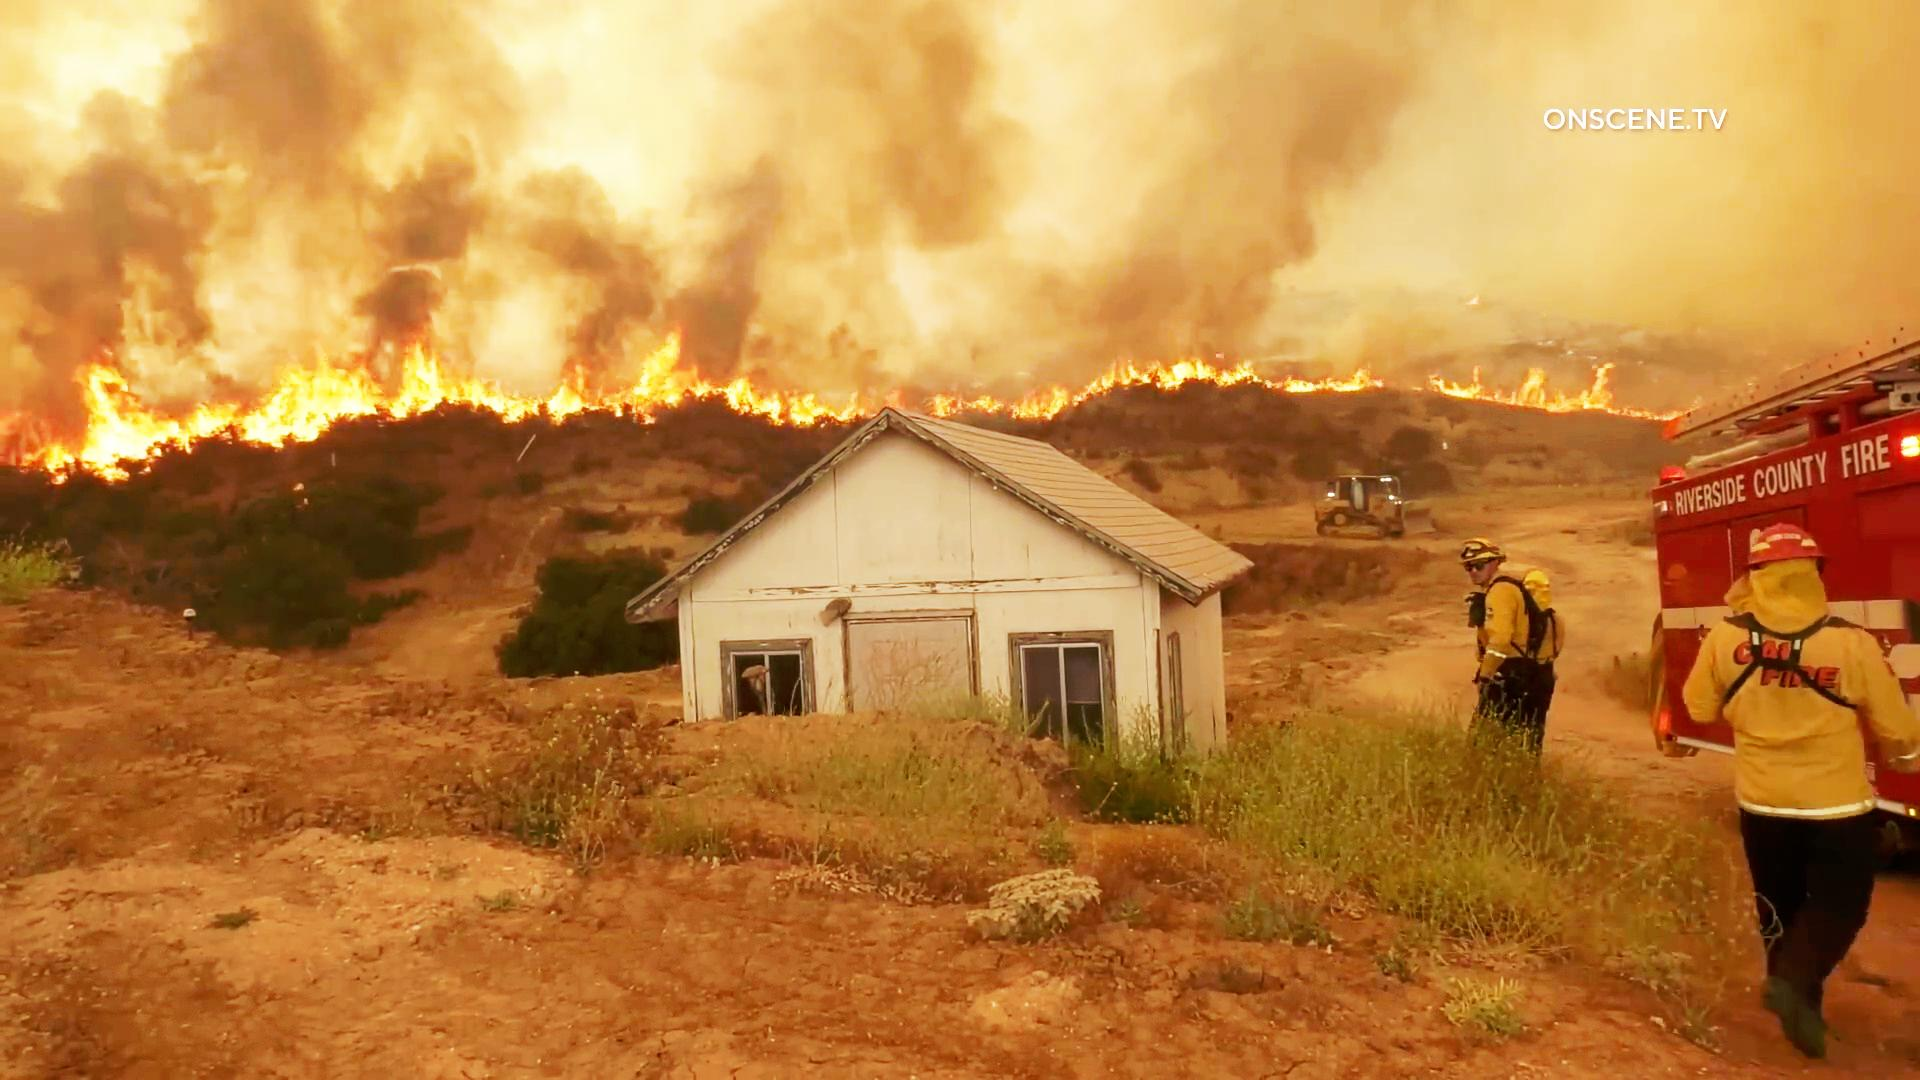fire: (20, 323, 433, 484), (411, 338, 699, 421)
smoke: (51, 91, 820, 301), (1085, 41, 1383, 386)
